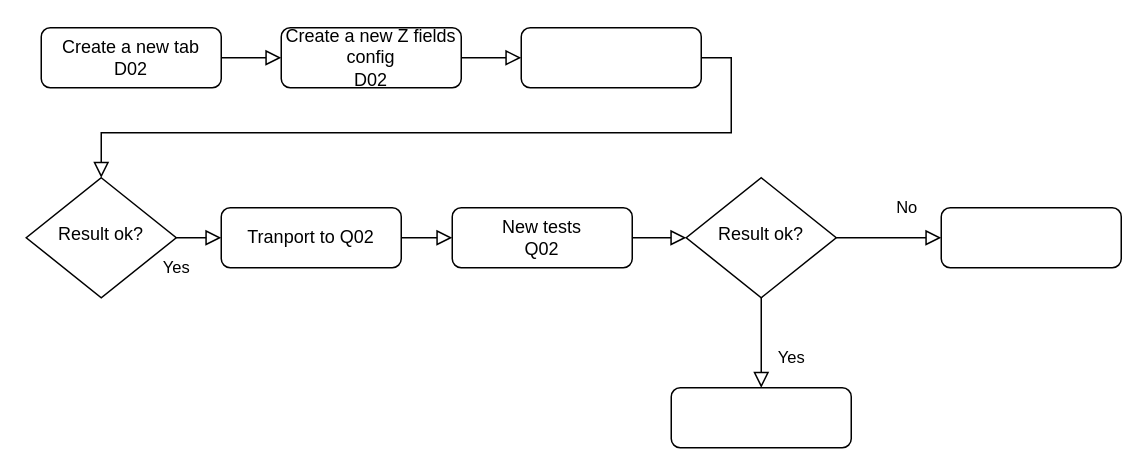
Image size: 1148x474. Some labels were removed from this diagram. The shapes that lost their labels are listed below. From the top down, each one's centre as x and y in pixels, then its label:
At (610,57): "New tests D02".
At (1030,237): "Review BP funcional config".
At (760,417): "Replace the old tab with the new one".
